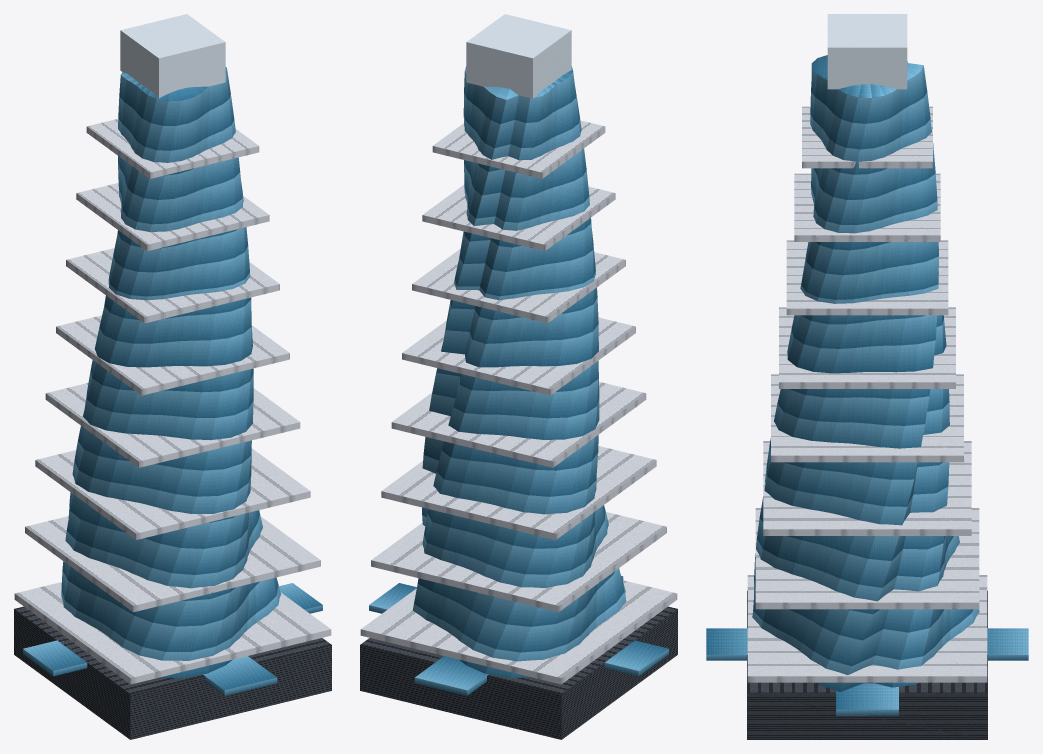
File: landmark_shanghai_tower.glb
The picture shows the model from 3 angles, left to right: view 1: azimuth 30°, elevation 25°; view 2: azimuth 150°, elevation 25°; view 3: azimuth 270°, elevation 25°; orthographic projection. The views are drawn at different scales.
Parts seen in each view (by area): view 1: Landmark_Shanghai_Tower; view 2: Landmark_Shanghai_Tower; view 3: Landmark_Shanghai_Tower.
Boxes of the visible parts, <box> form: Landmark_Shanghai_Tower: <box>14,14,331,739</box>; Landmark_Shanghai_Tower: <box>360,14,677,739</box>; Landmark_Shanghai_Tower: <box>706,14,1028,739</box>.
Bounding box in the file's own units: 15.4 × 34.7 × 15.4.
Materials: 1 (1 with a texture image).
